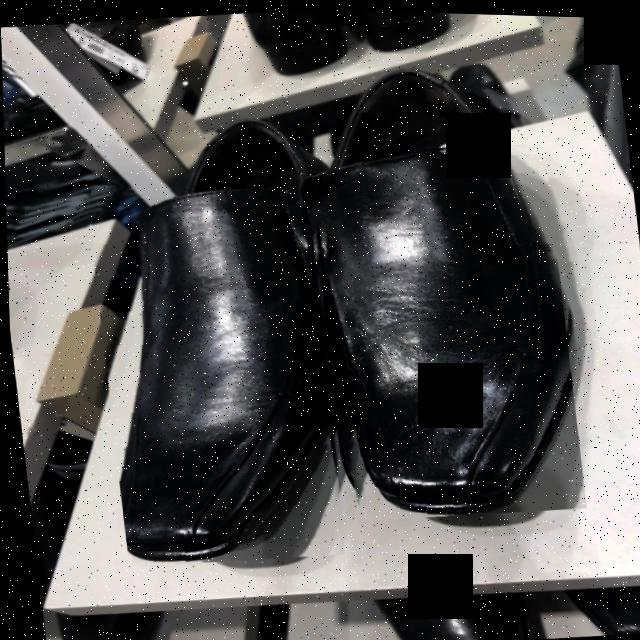shoe: (299, 143, 567, 514), (117, 182, 328, 563)
